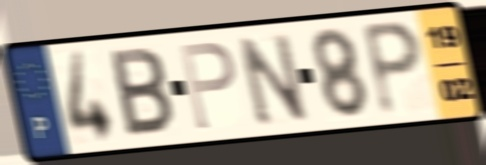4: (65, 47, 116, 147)
8: (309, 24, 371, 123)
B: (107, 45, 177, 141)
N: (233, 29, 312, 130)
P: (358, 18, 425, 120), (176, 39, 238, 134)
